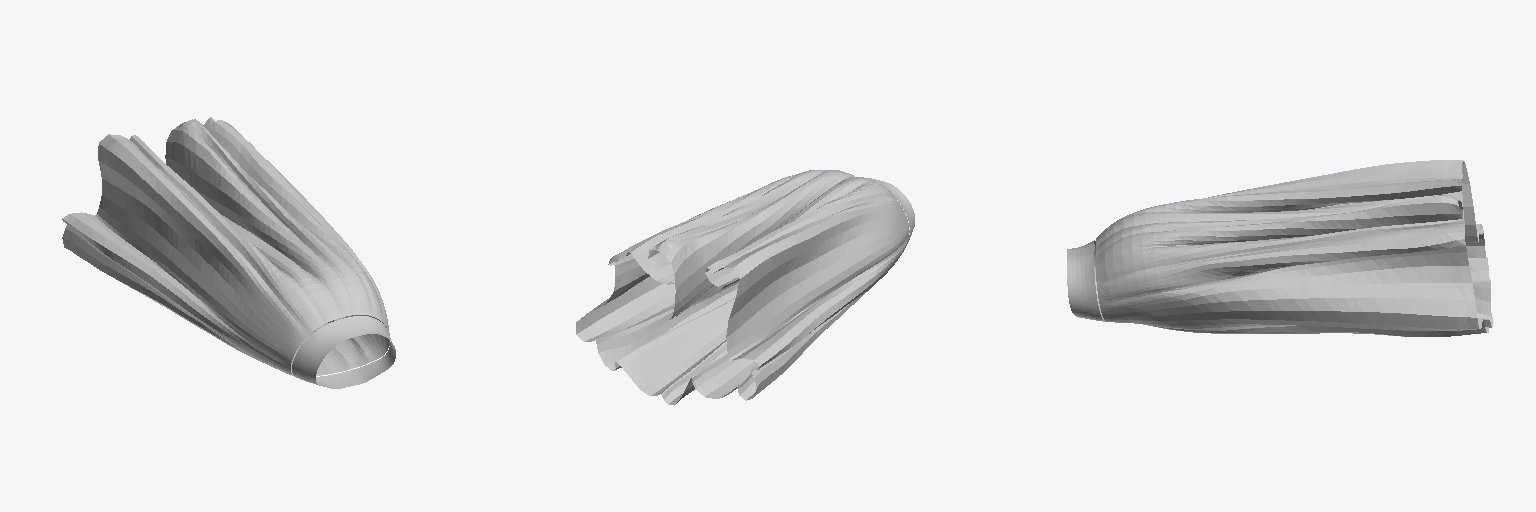
File: skirt.obj
3 renders of one model, left to right at view 1: azimuth 30°, elevation 25°; view 2: azimuth 150°, elevation 25°; view 3: azimuth 270°, elevation 25°, orthographic.
Parts seen in each view (by area): view 1: women_maxi_skirt_mesh_Mesh; view 2: women_maxi_skirt_mesh_Mesh; view 3: women_maxi_skirt_mesh_Mesh.
Boxes of the visible parts, x1=… form: women_maxi_skirt_mesh_Mesh: x1=62, y1=117, x2=395, y2=388; women_maxi_skirt_mesh_Mesh: x1=576, y1=170, x2=914, y2=404; women_maxi_skirt_mesh_Mesh: x1=1067, y1=160, x2=1492, y2=336.
Size of the model in its own units: 5.93 by 4.28 by 11.79.